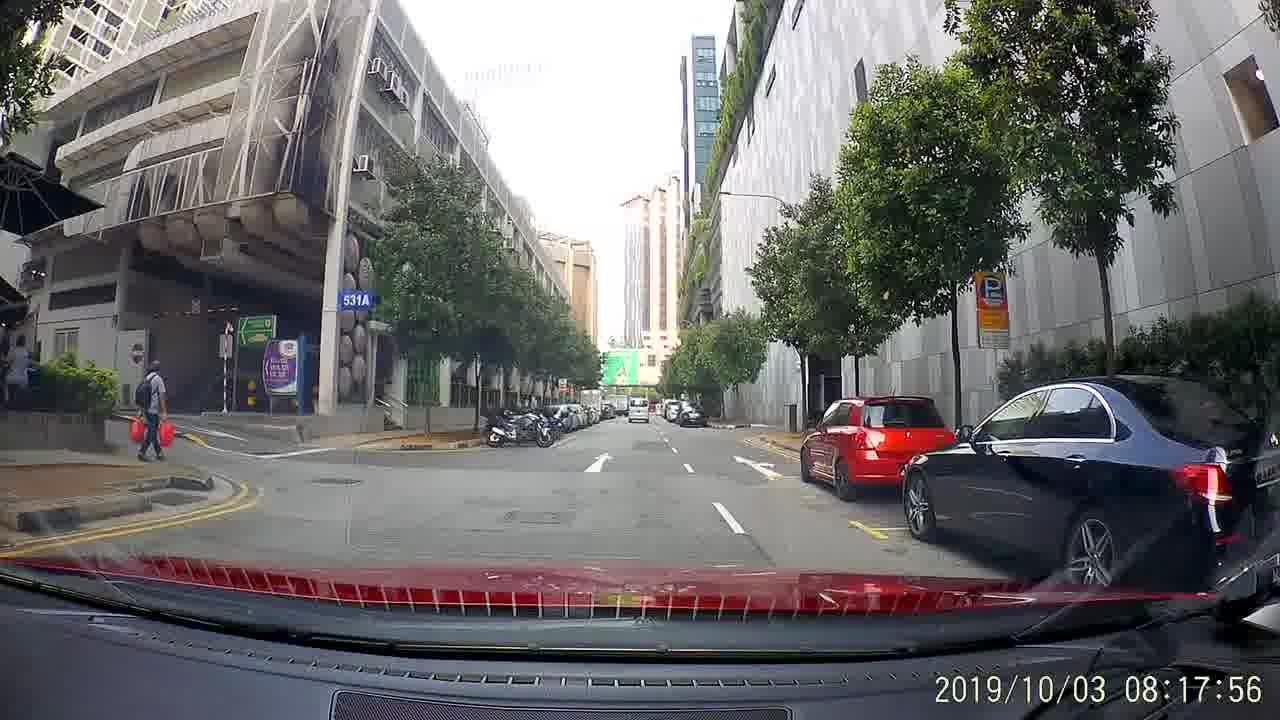car: (902, 369, 1279, 590), (794, 394, 956, 496), (676, 406, 709, 432)
